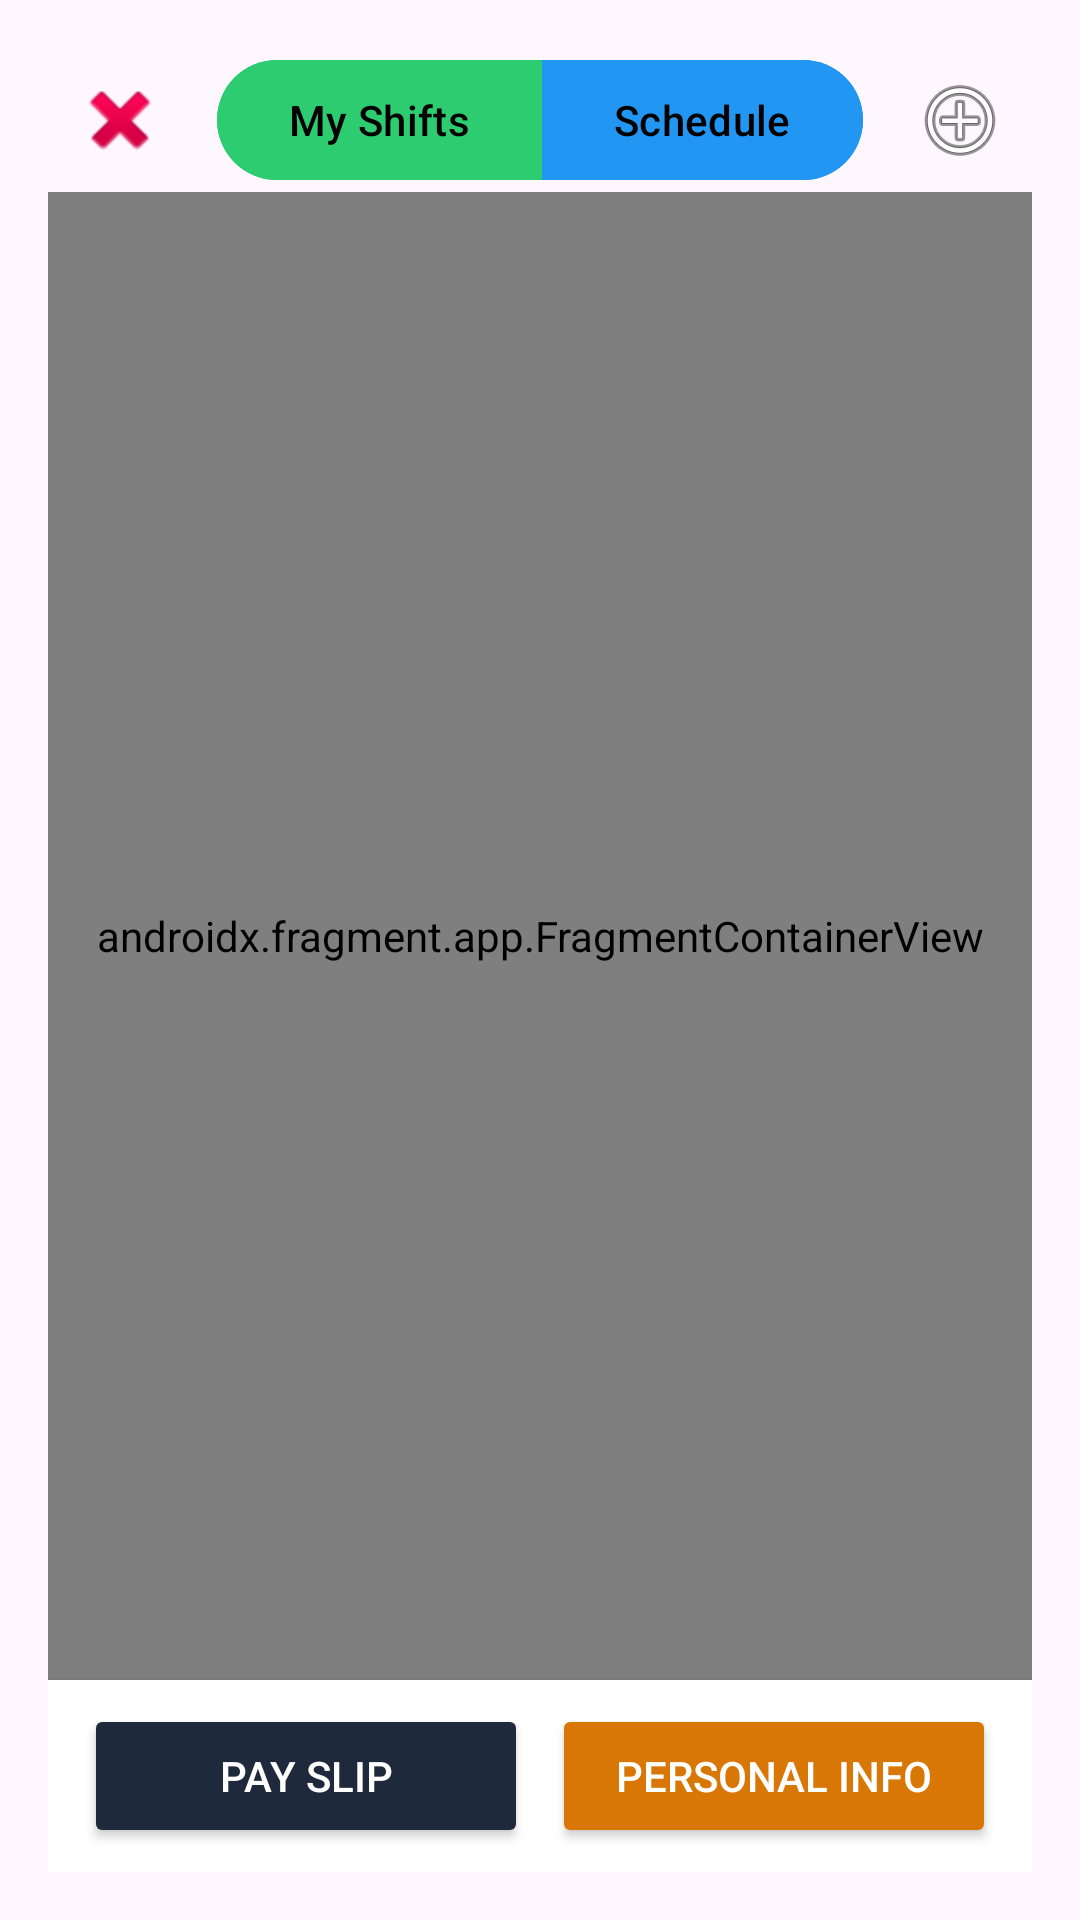

Where to tap for icons on this 1080px x 1920px app screen, as [x,y]:
Add a new shift: [960,120]
Delete shift: [120,120]
